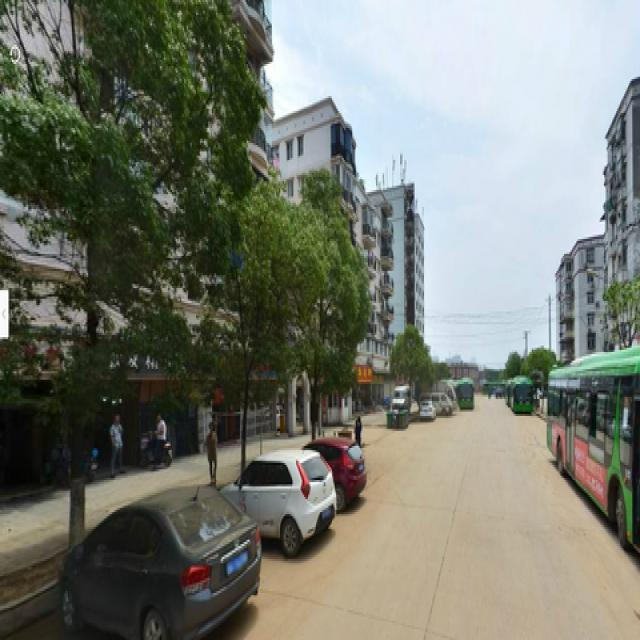cinn: (37, 30, 195, 527), (290, 196, 354, 446), (228, 207, 277, 465)
